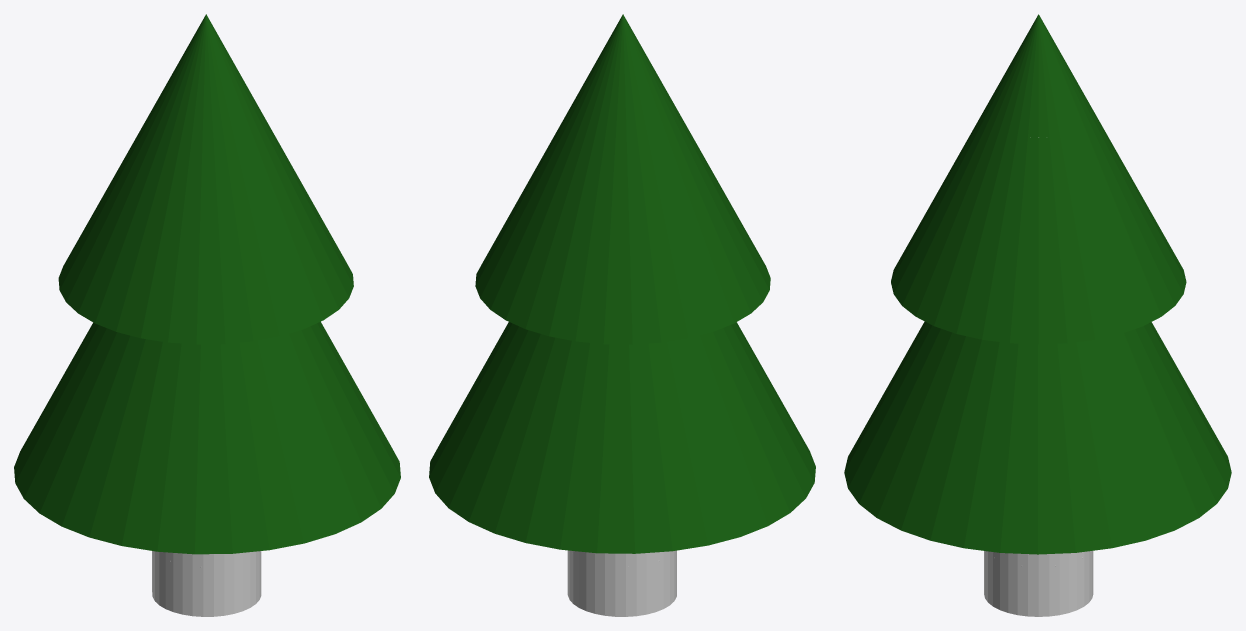
Rendered from STROM.fbx.
3 renders of one model, left to right at view 1: azimuth 30°, elevation 25°; view 2: azimuth 150°, elevation 25°; view 3: azimuth 270°, elevation 25°, orthographic.
Visible parts, largest first — view 1: Cone, Cube; view 2: Cone, Cube; view 3: Cone, Cube.
Part boxes in pixels (x1,y1,x2,y2): Cone: (14,14,400,554); Cube: (152,551,261,616); Cone: (429,14,815,553); Cube: (567,550,676,616); Cone: (844,14,1231,554); Cube: (984,137,1093,616).
Bounding box in the file's own units: 708 × 1168 × 708.
